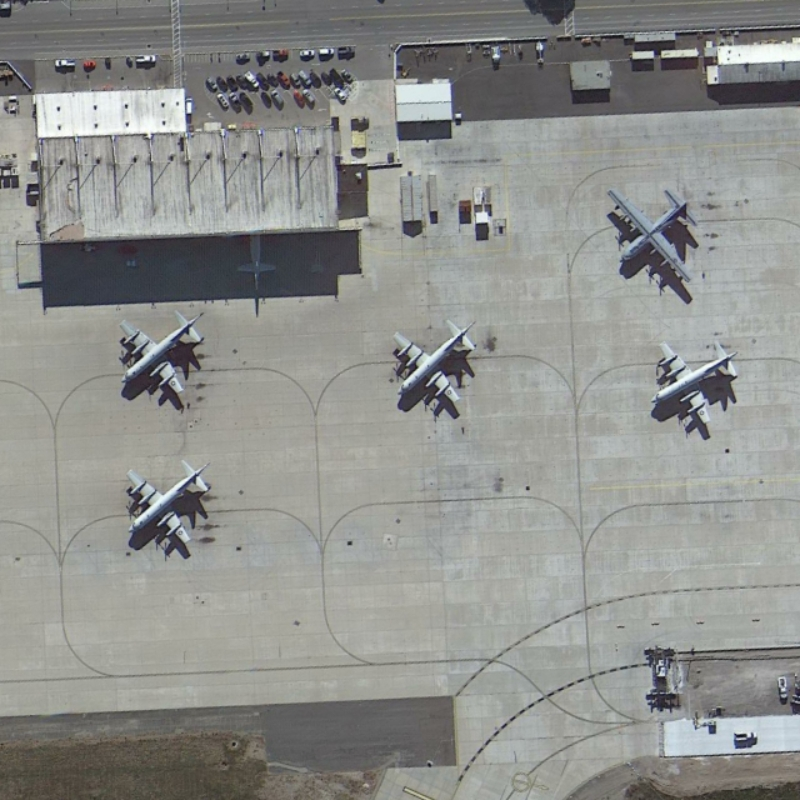A14: (600, 180, 705, 292)
A9: (117, 452, 216, 556), (641, 331, 743, 431), (110, 304, 208, 406), (385, 316, 480, 409)
